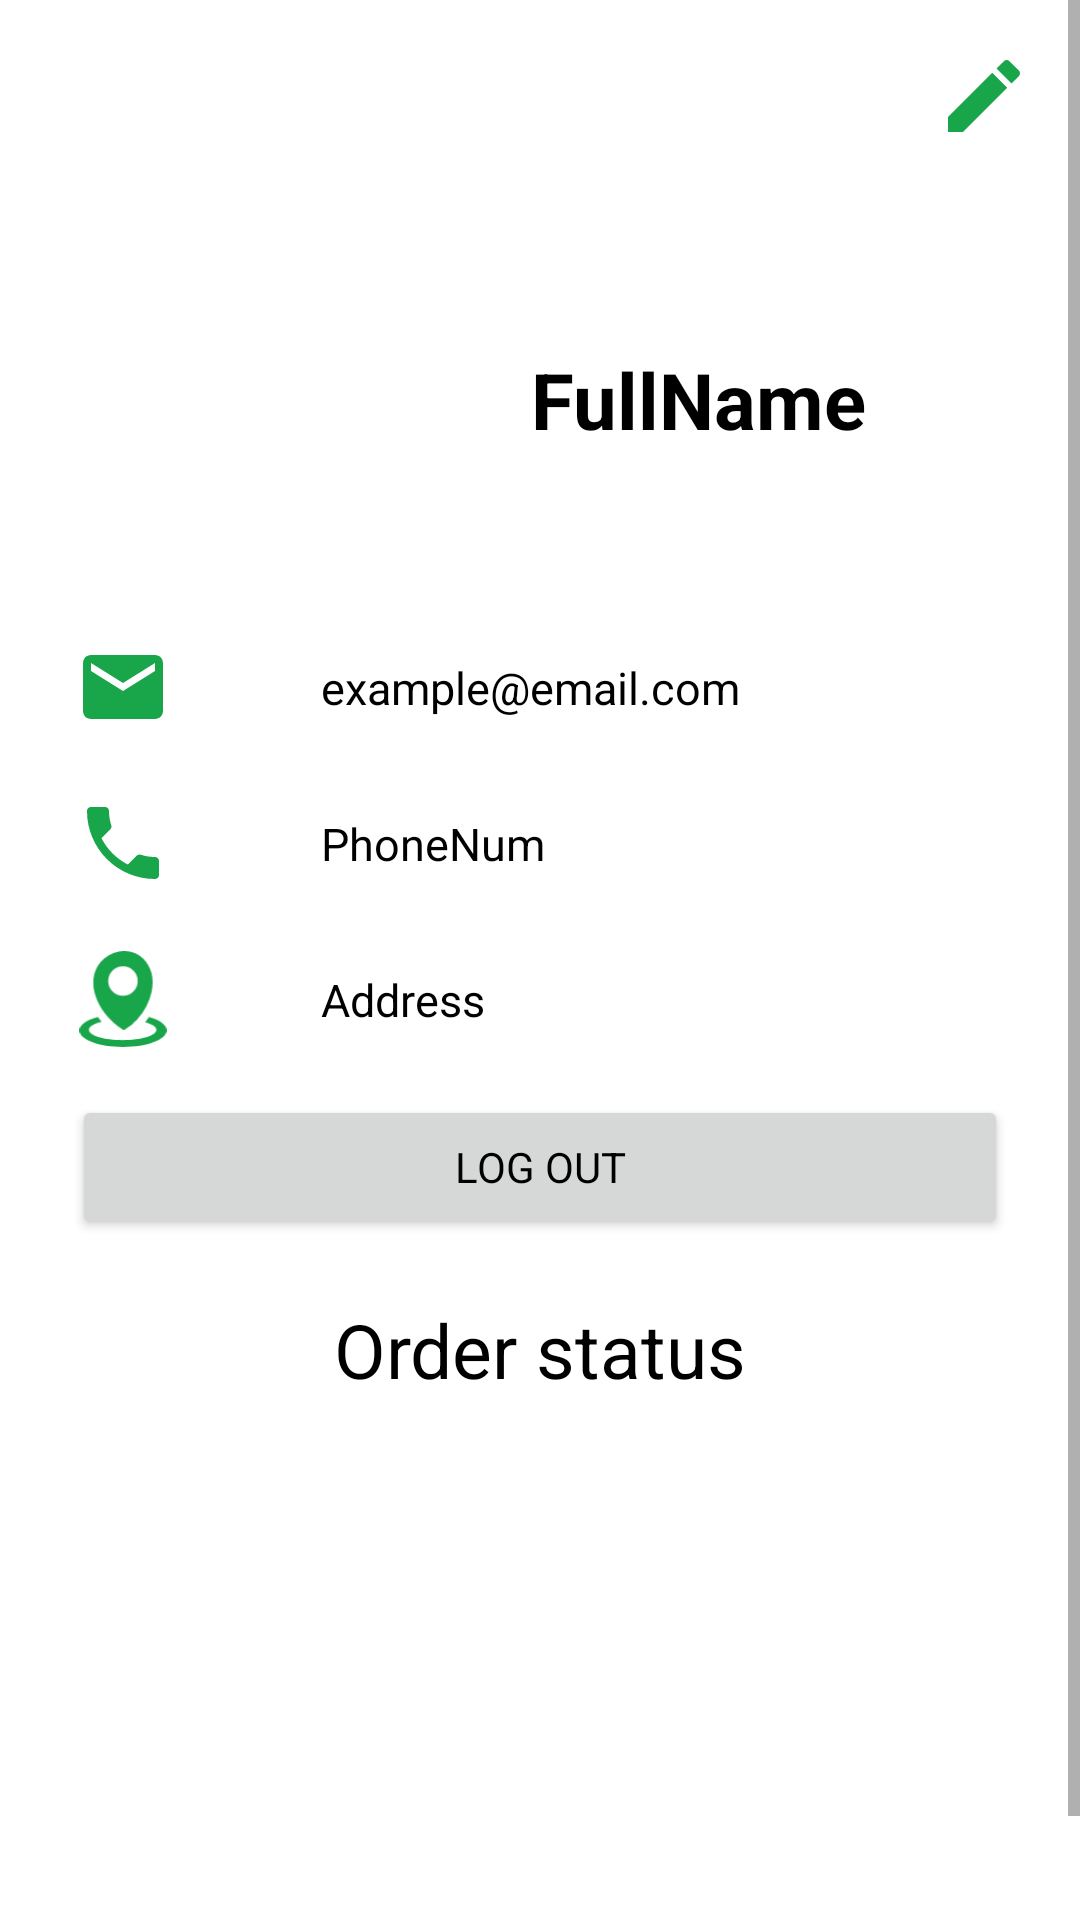

Where to tap for icons on this 1080 x 1920 app screen, as (x,y):
edit: (984,96)
